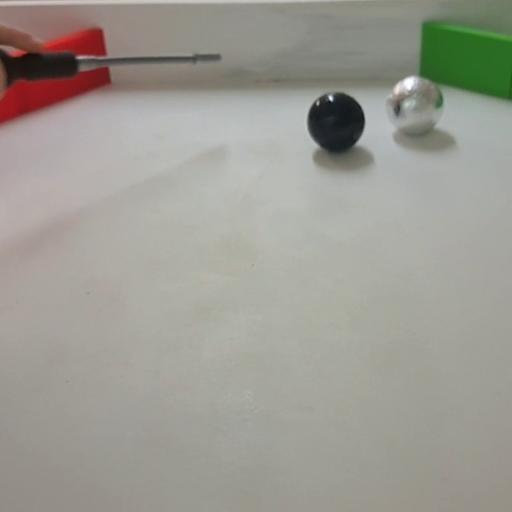alive: (386, 75, 444, 136)
dead: (306, 92, 366, 152)
